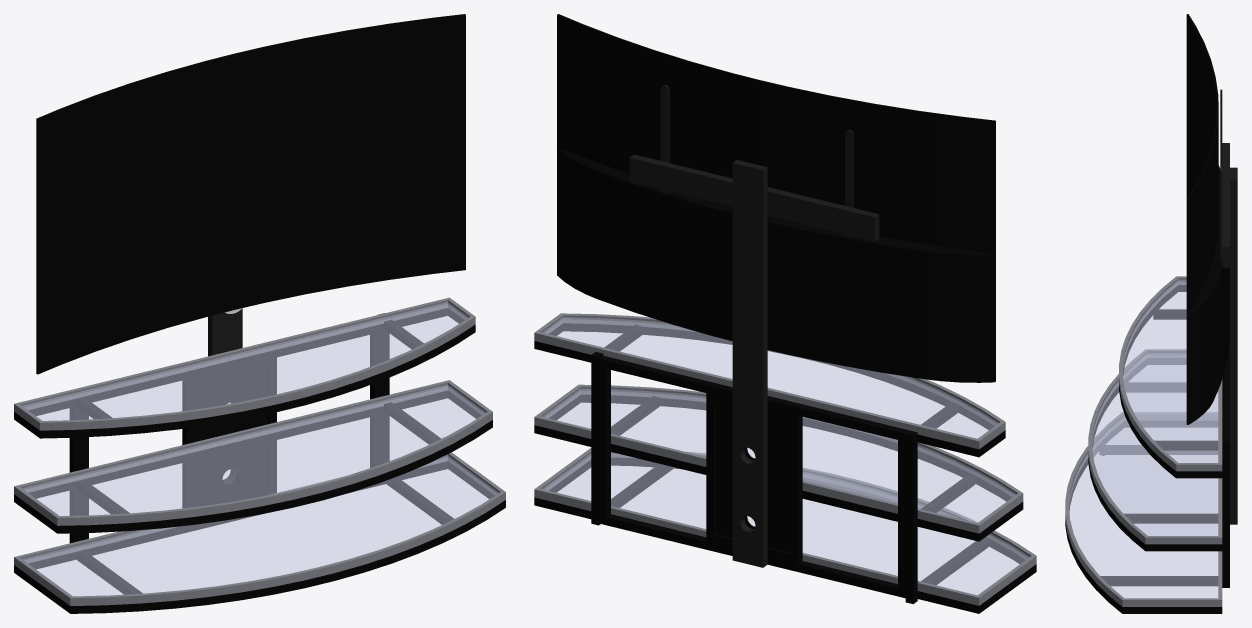
File: modern_tv_entertainment_center.glb
3 views of the same model, side by side, from view 1: azimuth 30°, elevation 25°; view 2: azimuth 150°, elevation 25°; view 3: azimuth 270°, elevation 25° (orthographic). The views are drawn at different scales.
Visible parts, largest first — view 1: currentmodel.wrl.cleaner.materialmerger.gles; view 2: currentmodel.wrl.cleaner.materialmerger.gles; view 3: currentmodel.wrl.cleaner.materialmerger.gles.
Boxes of the visible parts, <box> form: currentmodel.wrl.cleaner.materialmerger.gles: <box>14,14,505,613</box>; currentmodel.wrl.cleaner.materialmerger.gles: <box>534,14,1036,613</box>; currentmodel.wrl.cleaner.materialmerger.gles: <box>1065,14,1237,613</box>.
Bounding box in the file's own units: 1473 × 1517 × 570.
